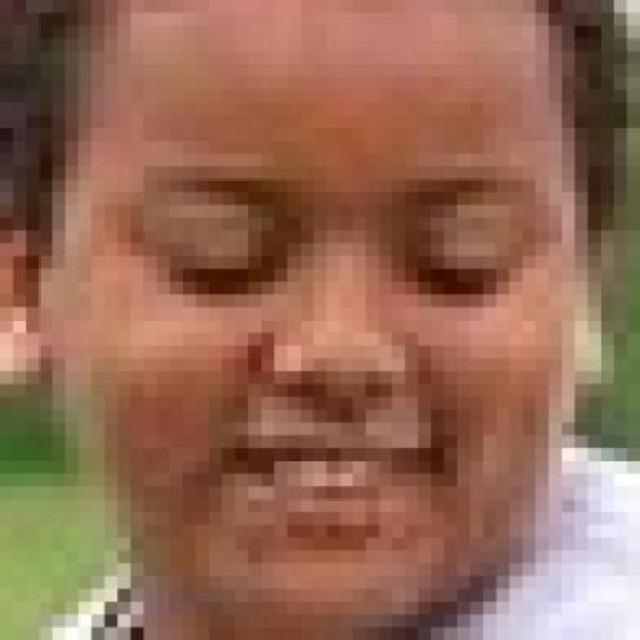drowsy: (407, 240, 508, 305), (161, 248, 276, 302)
